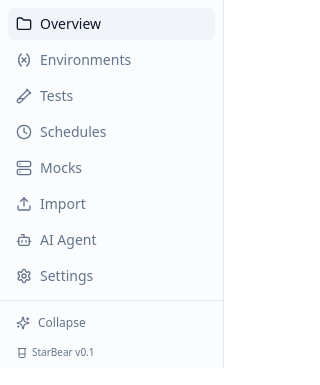
Test: <Sidebar> › toggles sidebar collapsed state when the collapse button is clicked
Check: the text "StarBear v0.1" is shown, box [16,345,94,359]
Step 1. Click the button "Collapse" → x=112, y=323, box [8,309,215,337]
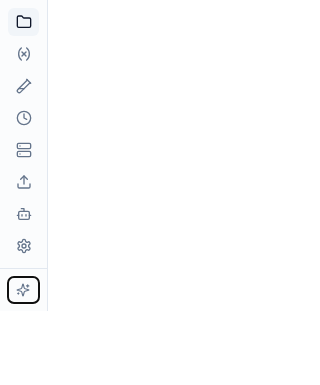
Check: the text "v0.1" is gone
